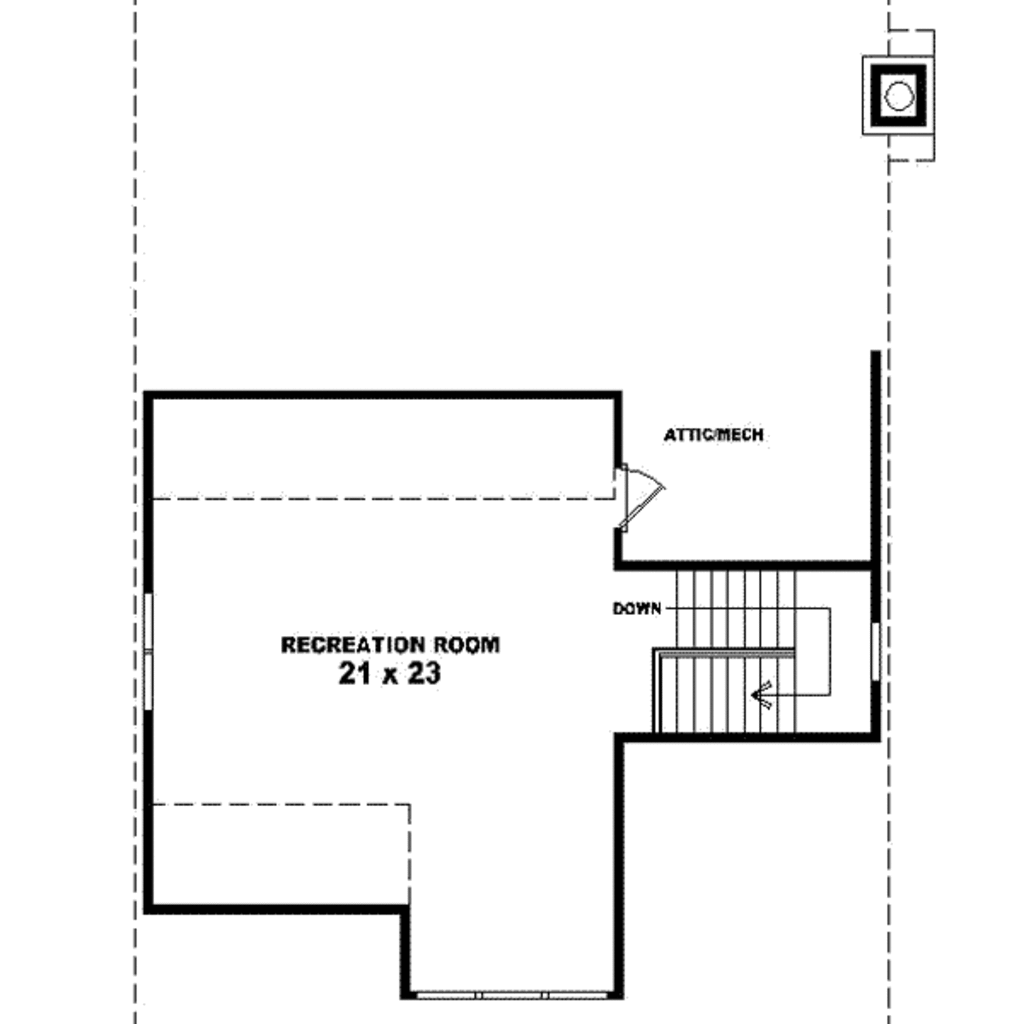door: (613, 463, 664, 533)
stairs: (622, 566, 866, 747)
window: (138, 592, 170, 711), (872, 622, 883, 677)
windows: (411, 985, 611, 1003)
